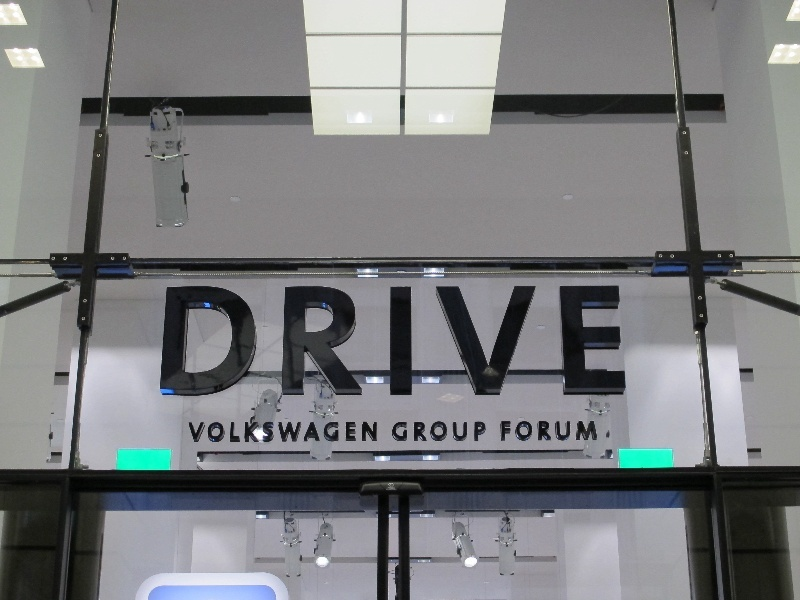text: (177, 286, 192, 399), (193, 286, 208, 399), (209, 286, 224, 399), (225, 286, 240, 399), (241, 286, 256, 399), (257, 286, 272, 399), (273, 286, 288, 399), (289, 286, 304, 399), (305, 286, 320, 399), (321, 286, 336, 399), (337, 286, 352, 399), (353, 286, 368, 399), (369, 286, 384, 399), (385, 286, 400, 399), (401, 286, 416, 399), (417, 286, 432, 399), (433, 286, 448, 399), (449, 286, 464, 399), (465, 286, 480, 399), (481, 286, 496, 399), (497, 286, 512, 399), (513, 286, 528, 399), (529, 286, 544, 399), (545, 286, 560, 399), (561, 286, 576, 399), (577, 286, 592, 399), (593, 286, 608, 399), (609, 286, 624, 399), (167, 286, 176, 399), (193, 422, 208, 443), (209, 422, 224, 443), (225, 422, 240, 443), (241, 422, 256, 443), (257, 422, 272, 443), (273, 422, 288, 443), (289, 422, 304, 443), (305, 422, 320, 443), (321, 422, 336, 443), (337, 422, 352, 443), (353, 422, 368, 443), (401, 422, 416, 442), (417, 422, 432, 442), (433, 422, 448, 442), (449, 422, 464, 442), (465, 422, 480, 442), (513, 421, 528, 441), (529, 421, 544, 441), (545, 421, 560, 441), (561, 421, 576, 441), (577, 421, 592, 441), (625, 286, 627, 399), (502, 421, 512, 441), (369, 422, 377, 443), (393, 422, 400, 442), (481, 422, 486, 442), (593, 421, 598, 441), (189, 422, 192, 443)
